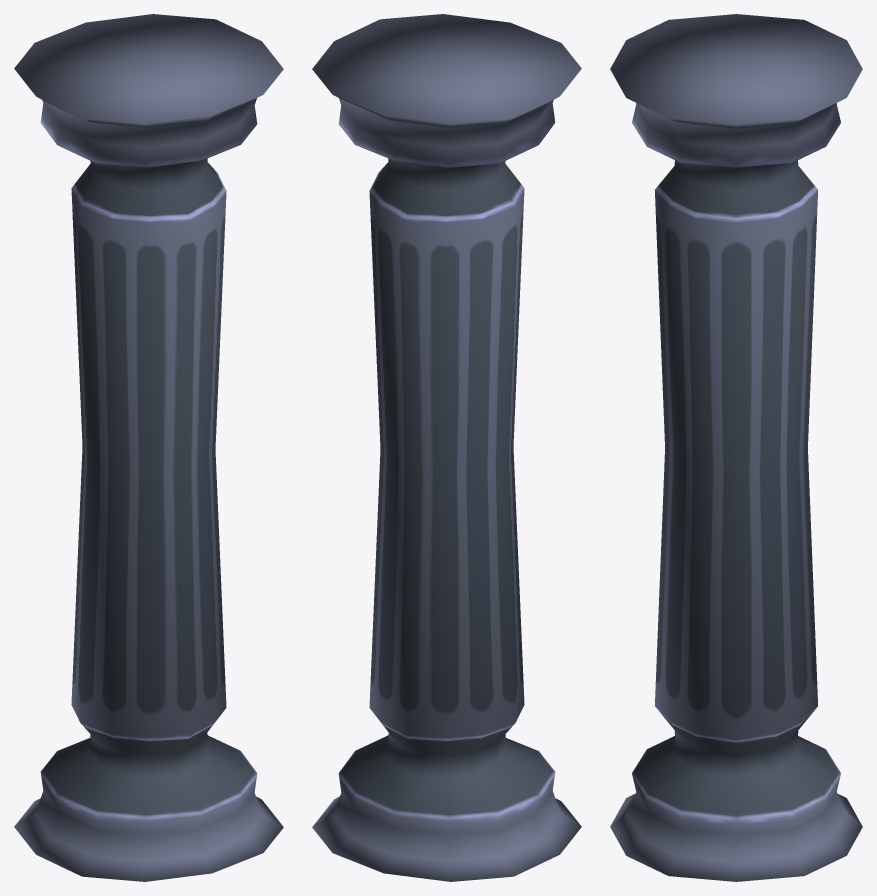
The model's file is prop_temple_column.fbx.
3 views of the same model, side by side, from view 1: azimuth 30°, elevation 25°; view 2: azimuth 150°, elevation 25°; view 3: azimuth 270°, elevation 25° (orthographic).
Visible parts, largest first — view 1: column; view 2: column; view 3: column.
Part boxes in pixels (left/top/right/bottom): column: left=14, top=14, right=283, bottom=881; column: left=312, top=14, right=581, bottom=881; column: left=610, top=14, right=862, bottom=881.
Bounding box in the file's own units: 1.2 × 3.84 × 1.16.
Materials: 1 (1 with a texture image).
